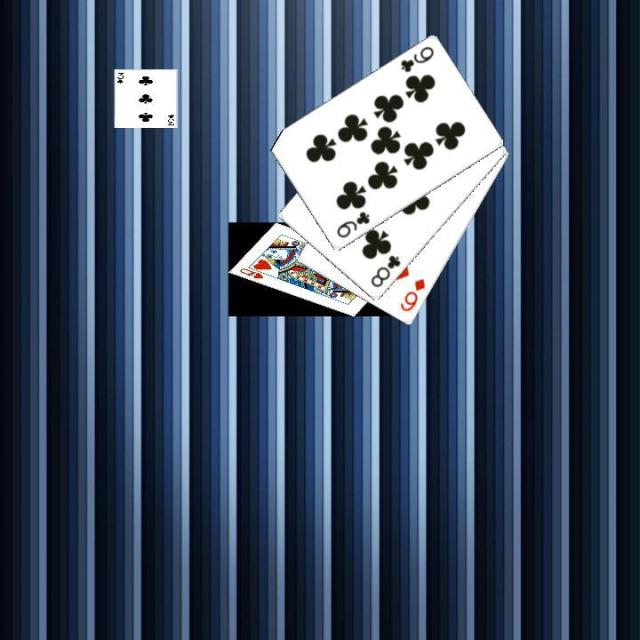6D: (397, 274, 428, 314)
8C: (366, 252, 403, 290)
9C: (332, 208, 372, 240), (396, 42, 436, 74)
